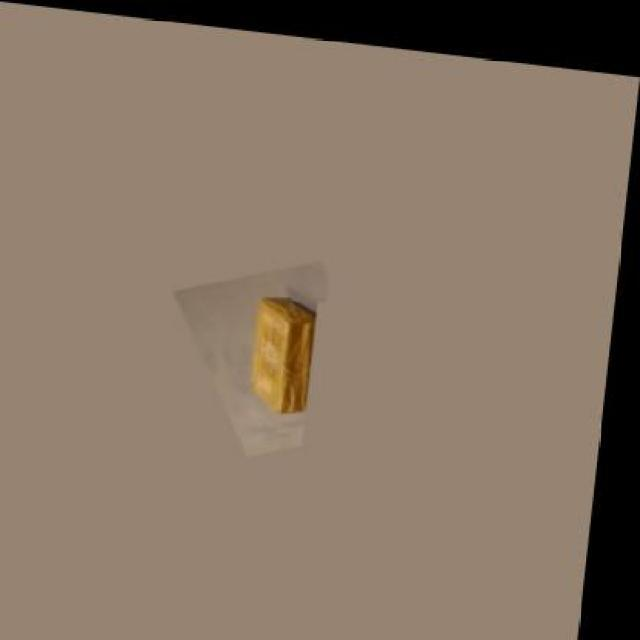box: (253, 288, 320, 410)
